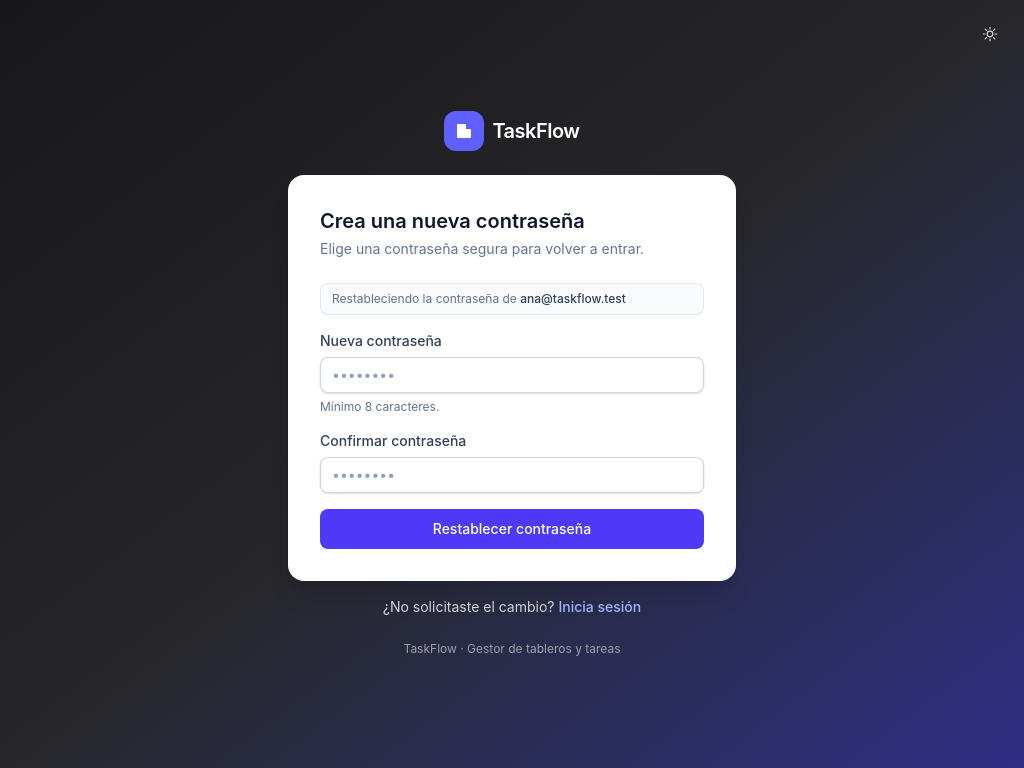
Test: ResetPasswordPage › resets the password and shows the success state
The image size is (1024, 768).
Type "NewPassword123!" into the password field labelled "Nueva contraseña". click: (512, 375)
box: [320, 357, 704, 393]
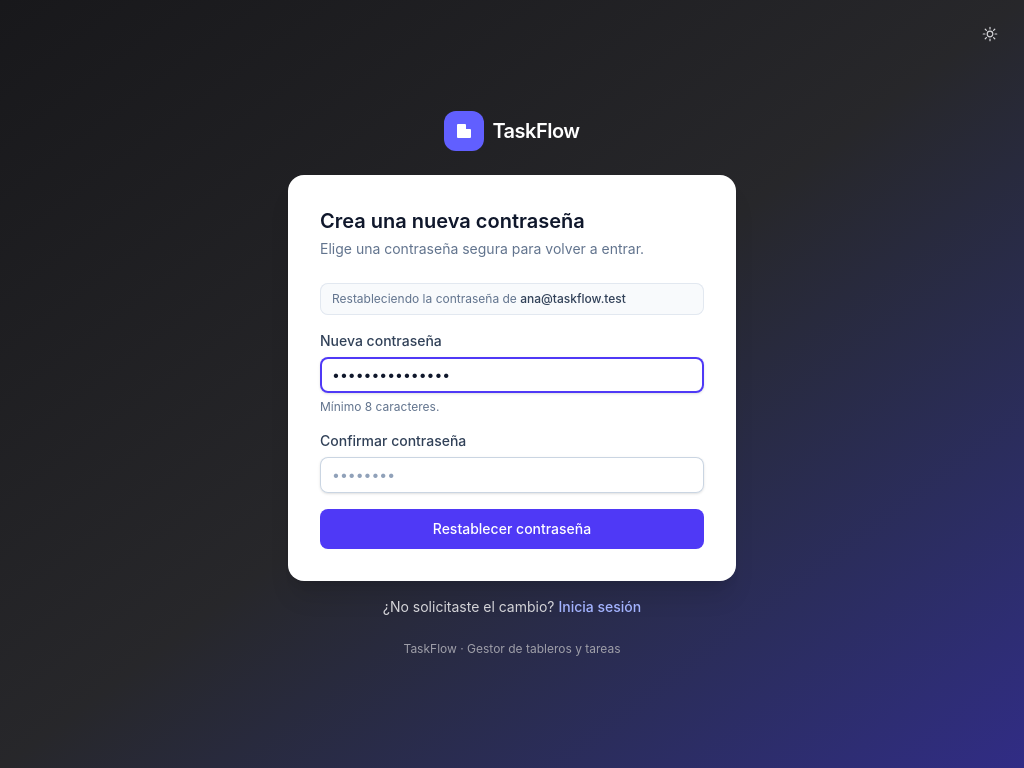
Type "NewPassword123!" into the password field labelled "Confirmar contraseña". click: (512, 475)
box: [320, 457, 704, 493]
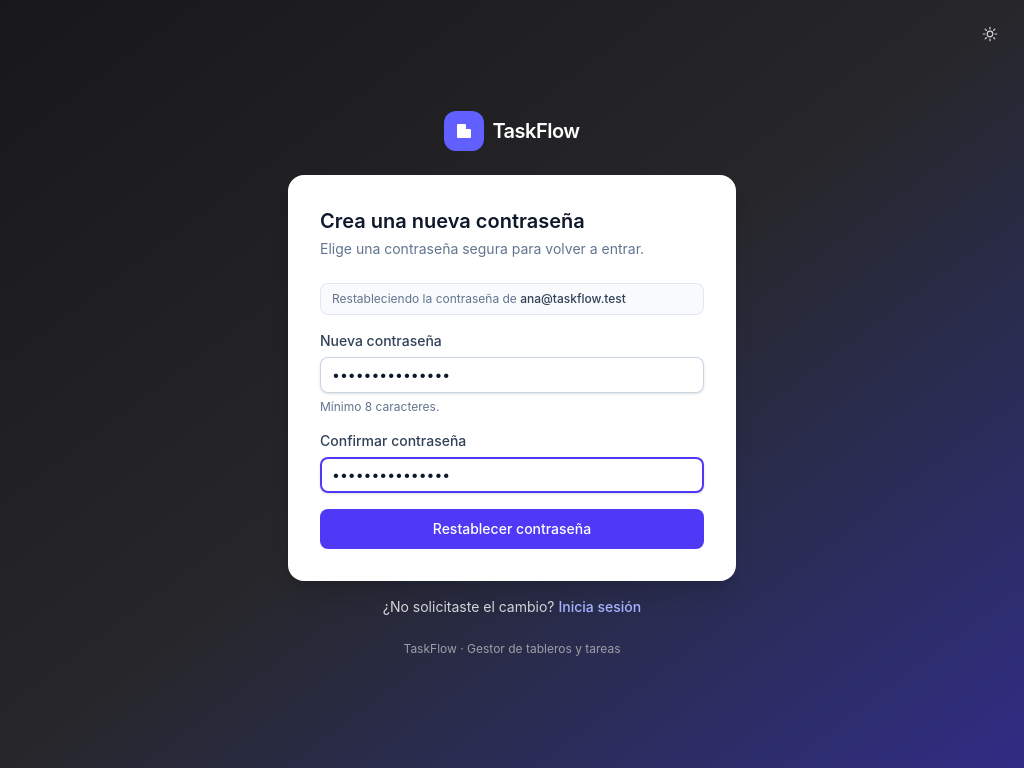
Click the button "Restablecer contraseña". click: (512, 529)
box: [320, 509, 704, 549]
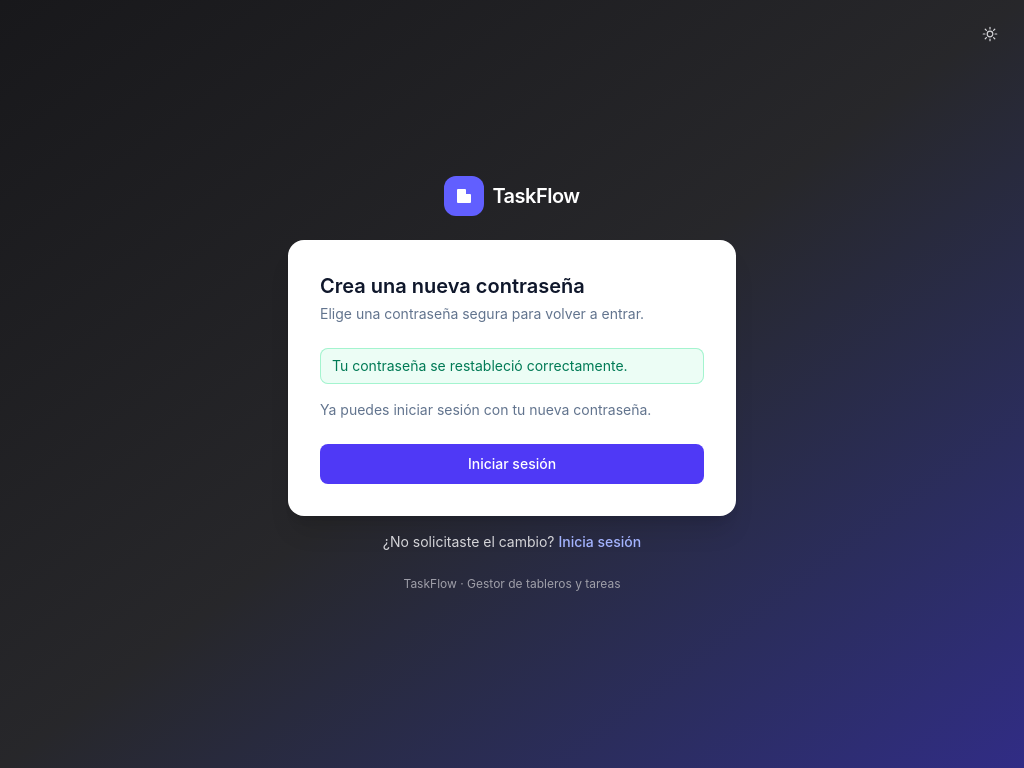
expect the text "Tu contraseña se restableció correctamente." is shown: met, box [320, 348, 704, 384]
